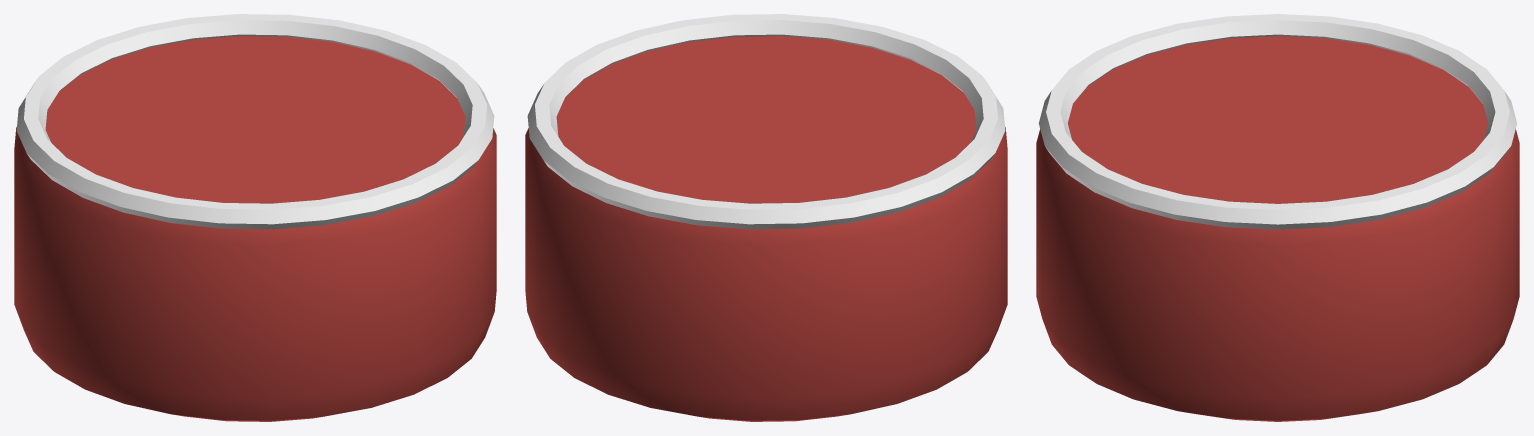
Rendered from dial.glb.
The picture shows the model from 3 angles, left to right: view 1: azimuth 30°, elevation 25°; view 2: azimuth 150°, elevation 25°; view 3: azimuth 270°, elevation 25°; orthographic projection.
Visible parts, largest first — view 1: lod0; view 2: lod0; view 3: lod0.
Part boxes in pixels (x1=…): lod0: x1=14, y1=14, x2=496, y2=421; lod0: x1=525, y1=14, x2=1007, y2=421; lod0: x1=1036, y1=14, x2=1519, y2=421.
Size of what is drawn, in the model's own units: 0.1 by 0.0611 by 0.1.
